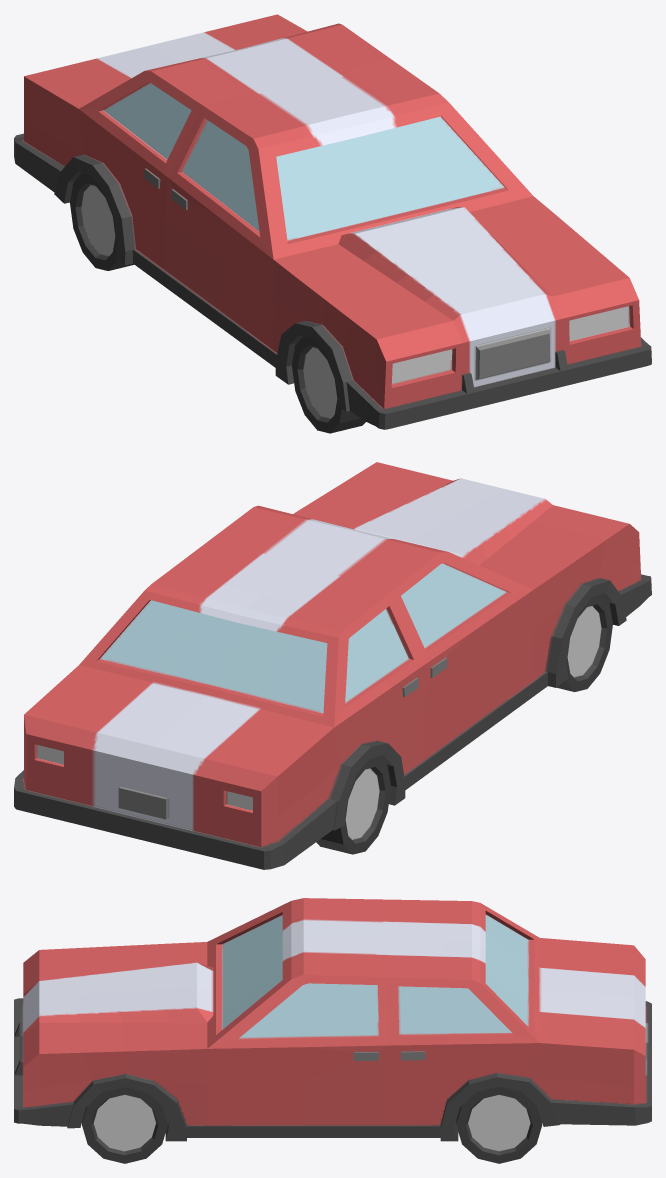
The model's file is 07 Car Regular.fbx.
3 views of the same model, one above another, from view 1: azimuth 30°, elevation 25°; view 2: azimuth 150°, elevation 25°; view 3: azimuth 270°, elevation 25° (orthographic). The views are drawn at different scales.
Visible parts, largest first — view 1: 07 Car Body, 07 Car Front Wheel R, 07 Car Back Wheel R; view 2: 07 Car Body, 07 Car Back Wheel R, 07 Car Front Wheel R; view 3: 07 Car Body, 07 Car Back Wheel L, 07 Car Front Wheel L.
Part boxes in pixels (left/top/right/bottom): 07 Car Body: left=14, top=14, right=651, bottom=429; 07 Car Front Wheel R: left=292, top=336, right=365, bottom=433; 07 Car Back Wheel R: left=70, top=172, right=134, bottom=270; 07 Car Body: left=14, top=462, right=651, bottom=869; 07 Car Back Wheel R: left=316, top=756, right=390, bottom=854; 07 Car Front Wheel R: left=556, top=594, right=612, bottom=691; 07 Car Body: left=14, top=898, right=651, bottom=1141; 07 Car Back Wheel L: left=456, top=1086, right=542, bottom=1163; 07 Car Front Wheel L: left=82, top=1087, right=167, bottom=1163.
Bounding box in the file's own units: 70.91 × 49.39 × 166.
Materials: 1 (1 with a texture image).
